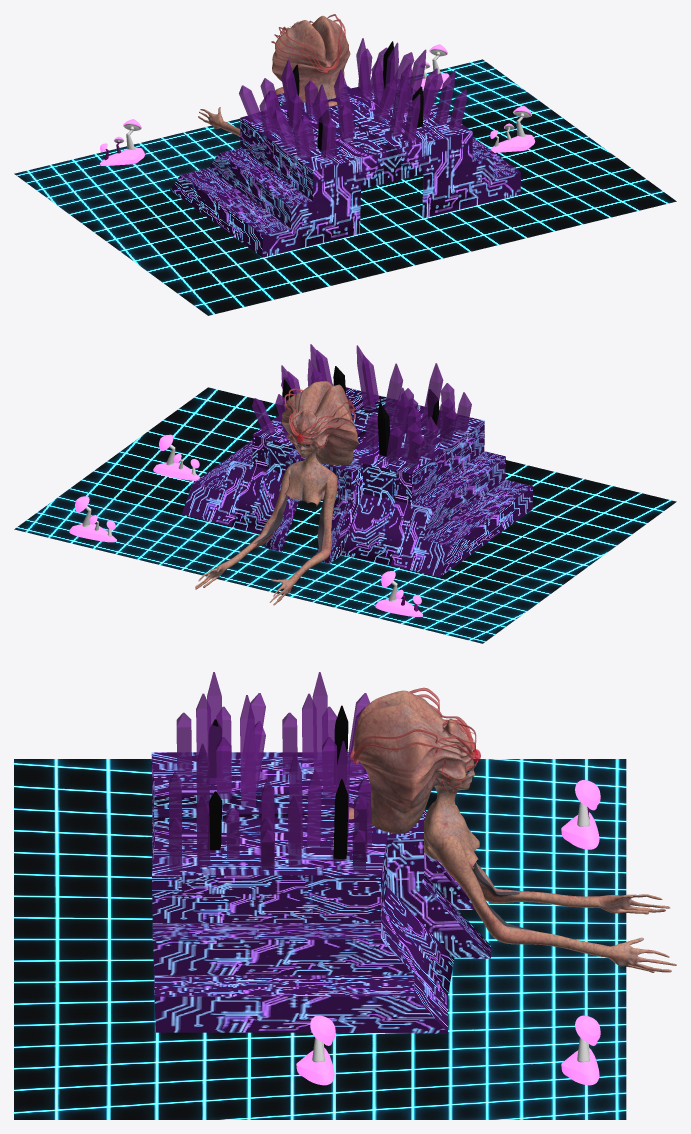
File: homunculatent.glb
3 renders of one model, top to bottom at view 1: azimuth 30°, elevation 25°; view 2: azimuth 150°, elevation 25°; view 3: azimuth 270°, elevation 25°, orthographic. The views are drawn at different scales.
Visible parts, largest first — view 1: Plane.003, Plane.004, Plane.005, CuerpoOriginal6, Cube.010, Cube.049, Cube.009, Cylinder.001, Cylinder.008, Cube.013, Cube.014, Cube.011 (+8 smaller); view 2: Plane.003, Plane.004, CuerpoOriginal6, Plane.005, Cube.010, Cube.015, Cube.011, Cylinder.007, Cylinder.001, Cylinder.008, Cube.031, Cube.038 (+2 smaller); view 3: Plane.003, Plane.005, CuerpoOriginal6, Plane.004, Cube.011, Cube.015, Cube.031, Cube.002, Cube.048, Cube.014, Cylinder.001, Cylinder.007 (+15 smaller).
Boxes of the visible parts, x1=… form: Plane.003: x1=14, y1=59, x2=676, y2=315; Plane.004: x1=170, y1=93, x2=395, y2=257; Plane.005: x1=327, y1=83, x2=520, y2=218; CuerpoOriginal6: x1=198, y1=15, x2=350, y2=136; Cube.010: x1=389, y1=72, x2=408, y2=136; Cube.049: x1=356, y1=38, x2=372, y2=100; Cube.009: x1=434, y1=70, x2=455, y2=125; Cylinder.001: x1=100, y1=147, x2=144, y2=165; Cylinder.008: x1=490, y1=134, x2=535, y2=152; Cube.013: x1=403, y1=94, x2=420, y2=141; Cube.014: x1=321, y1=118, x2=336, y2=159; Cube.011: x1=334, y1=69, x2=355, y2=132; Plane.003: x1=14, y1=387, x2=676, y2=643; Plane.004: x1=315, y1=405, x2=532, y2=577; CuerpoOriginal6: x1=195, y1=381, x2=358, y2=605; Plane.005: x1=182, y1=384, x2=386, y2=551; Cube.010: x1=356, y1=345, x2=375, y2=410; Cube.015: x1=421, y1=363, x2=443, y2=427; Cube.011: x1=384, y1=363, x2=403, y2=428; Cylinder.007: x1=69, y1=523, x2=116, y2=542; Cylinder.001: x1=375, y1=598, x2=422, y2=616; Cylinder.008: x1=153, y1=462, x2=200, y2=480; Cube.031: x1=391, y1=387, x2=409, y2=450; Cube.038: x1=377, y1=402, x2=389, y2=456; Plane.003: x1=14, y1=759, x2=626, y2=1119; Plane.005: x1=152, y1=813, x2=490, y2=1033; CuerpoOriginal6: x1=348, y1=690, x2=676, y2=972; Plane.004: x1=151, y1=752, x2=475, y2=909; Cube.011: x1=240, y1=695, x2=255, y2=806; Cube.015: x1=207, y1=672, x2=222, y2=783; Cube.031: x1=312, y1=672, x2=328, y2=783; Cube.002: x1=333, y1=779, x2=348, y2=858; Cube.048: x1=307, y1=769, x2=321, y2=846; Cube.014: x1=176, y1=712, x2=191, y2=774; Cylinder.001: x1=561, y1=812, x2=599, y2=849; Cylinder.007: x1=561, y1=1048, x2=599, y2=1085.
Size of what is drawn, in the model's own units: 2.85 by 0.8997 by 2.21.
Materials: 14 (3 with a texture image).
